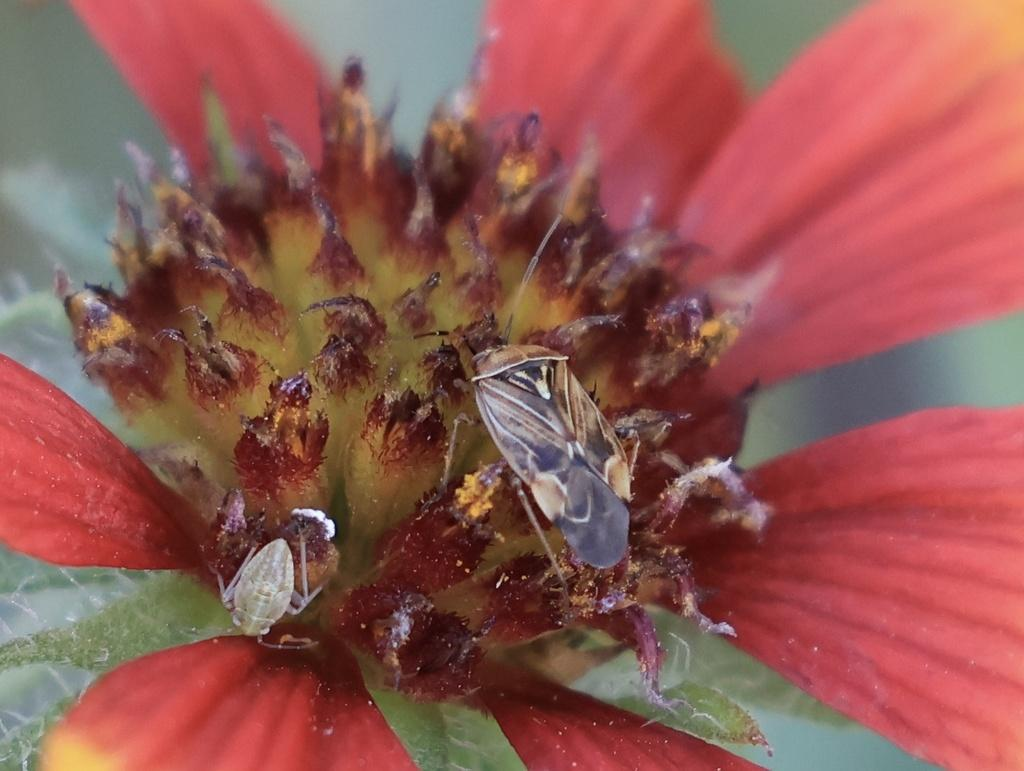plant_bugs: (375, 220, 728, 635)
